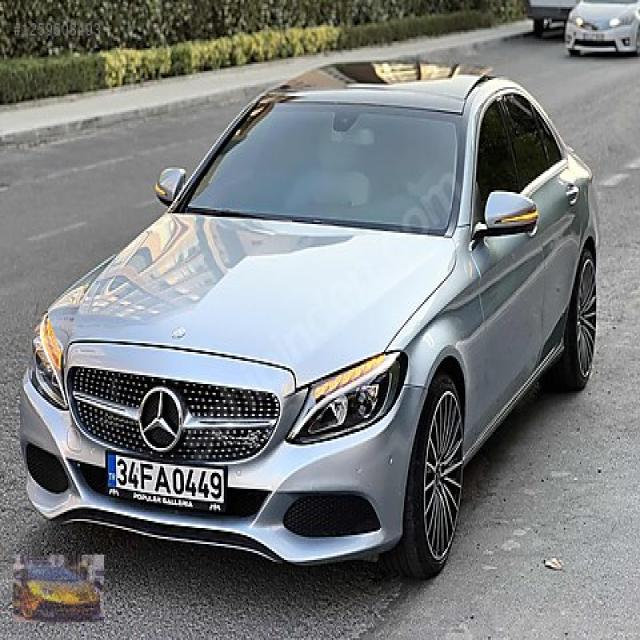mercedes: (134, 387, 184, 454)
